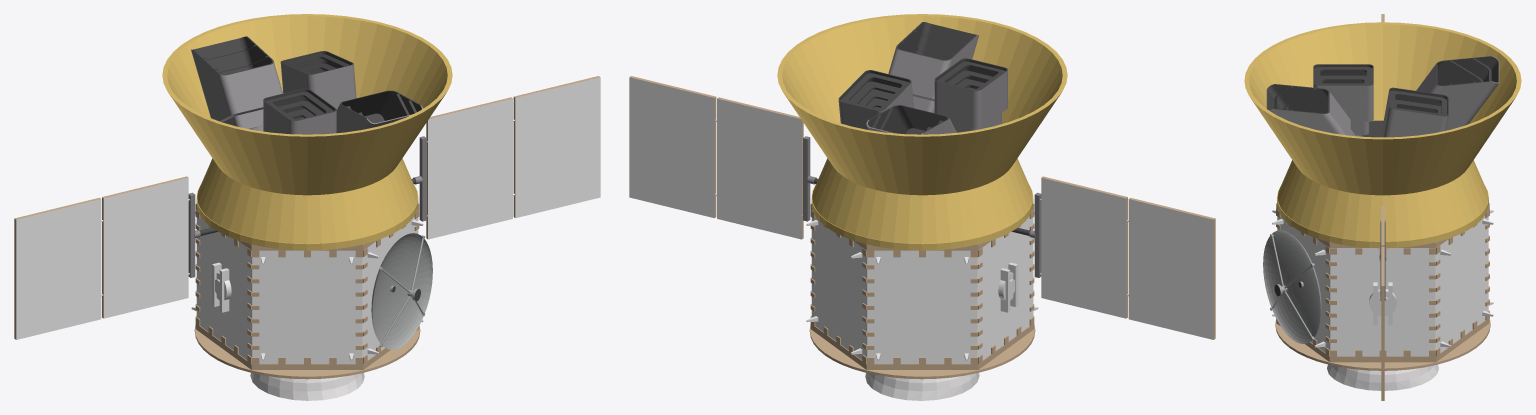
File: tess.glb
3 renders of one model, left to right at view 1: azimuth 30°, elevation 25°; view 2: azimuth 150°, elevation 25°; view 3: azimuth 270°, elevation 25°, orthographic. The views are drawn at different scales.
Parts seen in each view (by area): view 1: Layer_0; view 2: Layer_0; view 3: Layer_0.
Boxes of the visible parts, <box> form: Layer_0: <box>14,14,600,400</box>; Layer_0: <box>629,14,1215,400</box>; Layer_0: <box>1244,14,1521,400</box>.
Bounding box in the file's own units: 37.1 × 18.27 × 15.97.
Materials: 3 (3 with a texture image).
